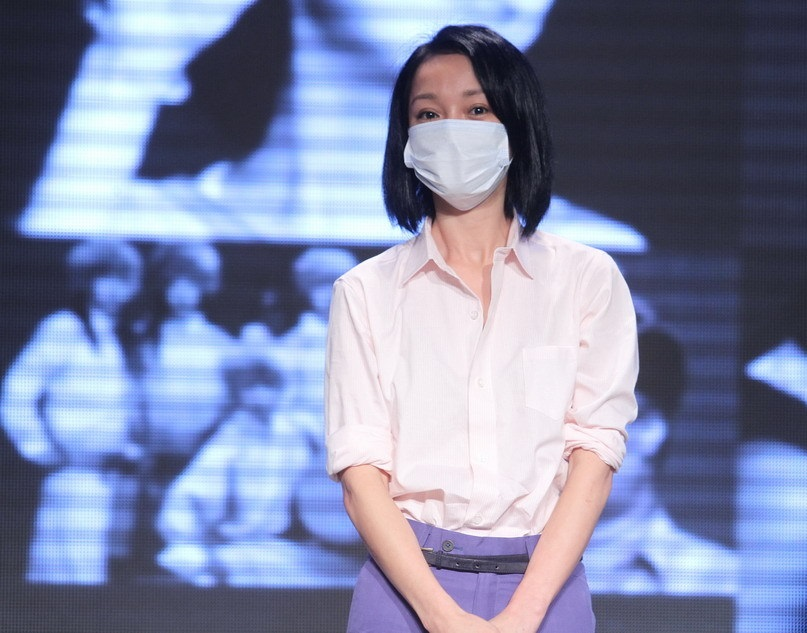face_mask: (404, 48, 522, 204)
